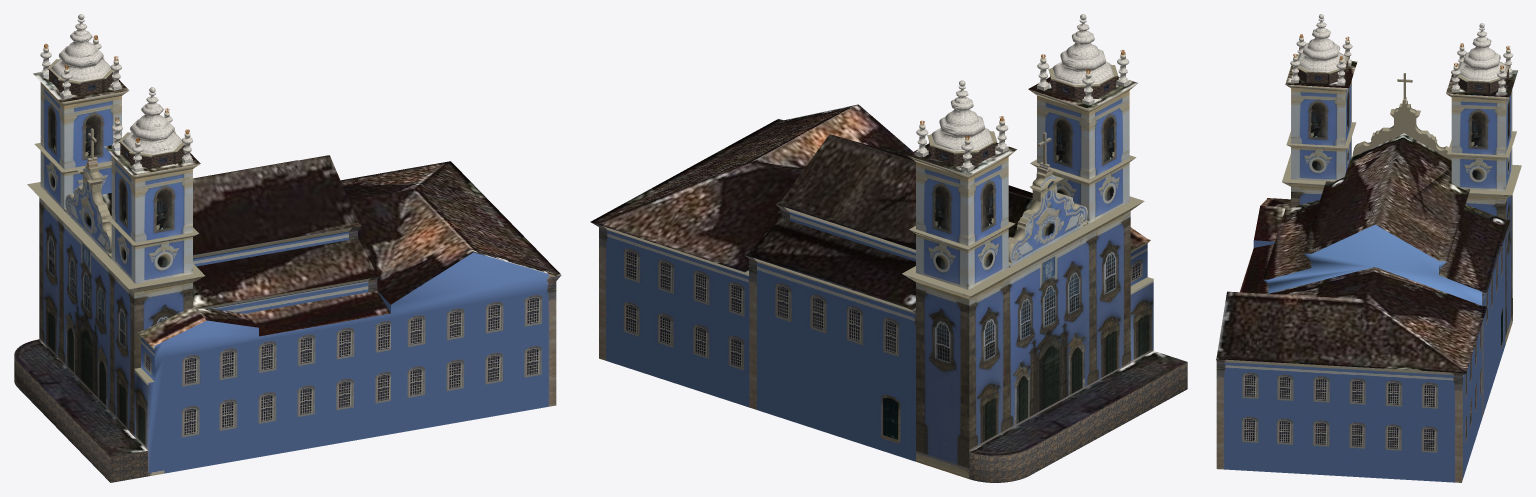
Rendered from igreja-do-rosario.glb.
3 renders of one model, left to right at view 1: azimuth 30°, elevation 25°; view 2: azimuth 150°, elevation 25°; view 3: azimuth 270°, elevation 25°, orthographic. The views are drawn at different scales.
Parts seen in each view (by area): view 1: Sketchup; view 2: Sketchup; view 3: Sketchup.
Part boxes in pixels (box(x1,y1,x2,y2)): Sketchup: box(14, 14, 561, 482); Sketchup: box(590, 14, 1187, 482); Sketchup: box(1216, 14, 1521, 482).
Bounding box in the file's own units: 43.55 × 32.9 × 29.44.
15 materials, 9 textured.
